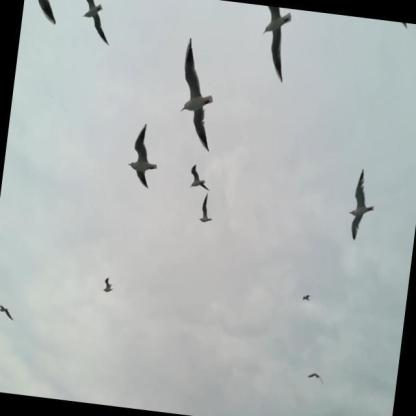bird: (172, 35, 224, 153), (250, 5, 296, 87), (120, 117, 162, 199), (341, 163, 380, 238), (68, 0, 116, 48), (187, 162, 213, 192), (198, 191, 216, 224), (0, 300, 17, 324), (304, 370, 326, 388), (101, 274, 116, 295), (298, 289, 311, 306)
